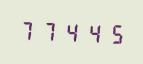five: (102, 21, 122, 45)
four: (60, 19, 80, 44), (81, 20, 101, 45)
seven: (39, 18, 59, 43), (18, 18, 38, 42)
